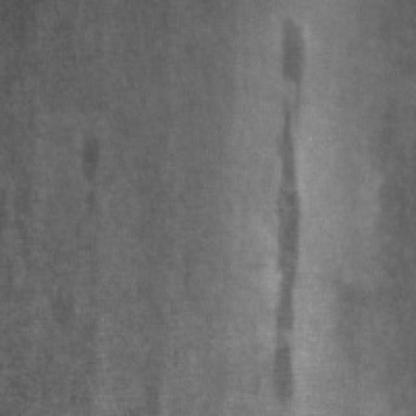inclusion: (343, 154, 410, 406), (258, 89, 308, 410), (268, 15, 312, 134), (69, 129, 106, 233)
